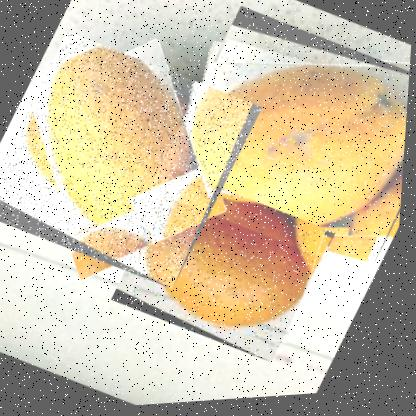orange: (145, 0, 414, 294), (0, 20, 269, 302), (109, 163, 343, 375)
